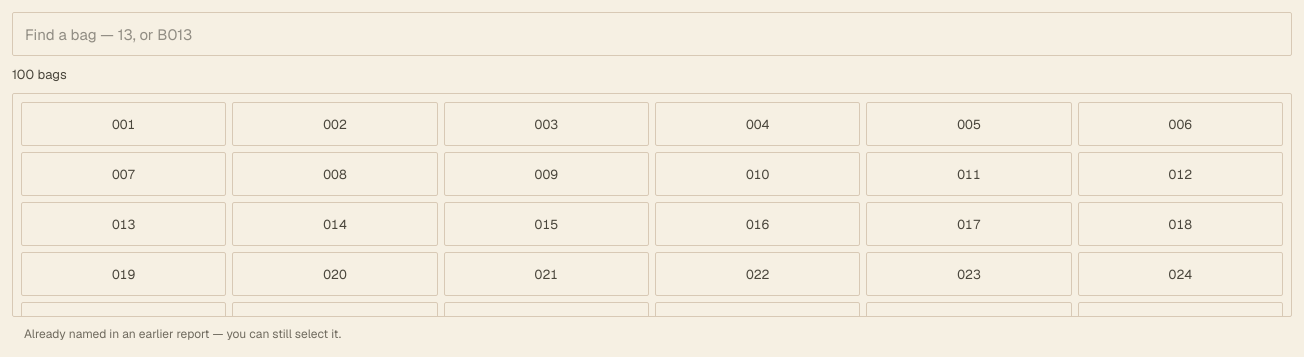
it: bag picker › says so when nothing matches the search
Expected: the button named "BAT-202610-001-B001" is shown, [21,102,226,146]
Type "zzz" into the search field labelled "Find a bag — 13, or B013" at (652, 34), box [12,12,1292,56]
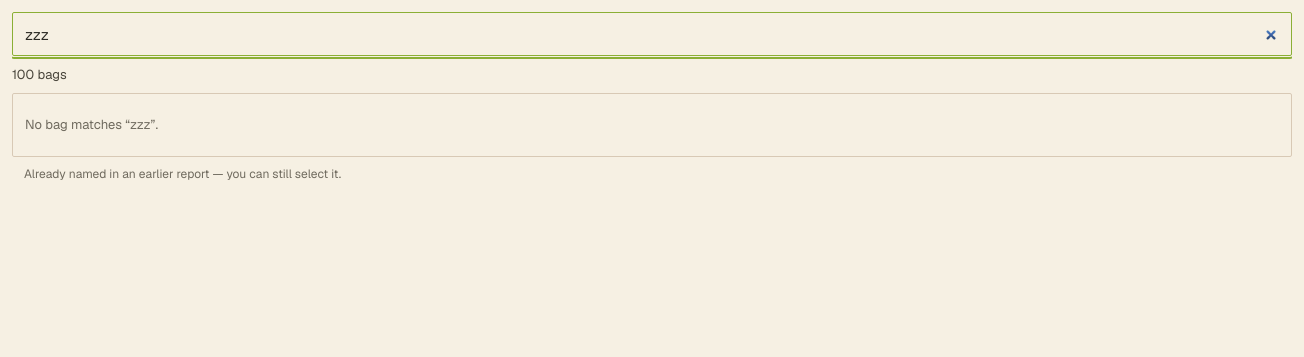
Expected: the text "No bag matches “zzz”." is shown, [25,116,158,133]
